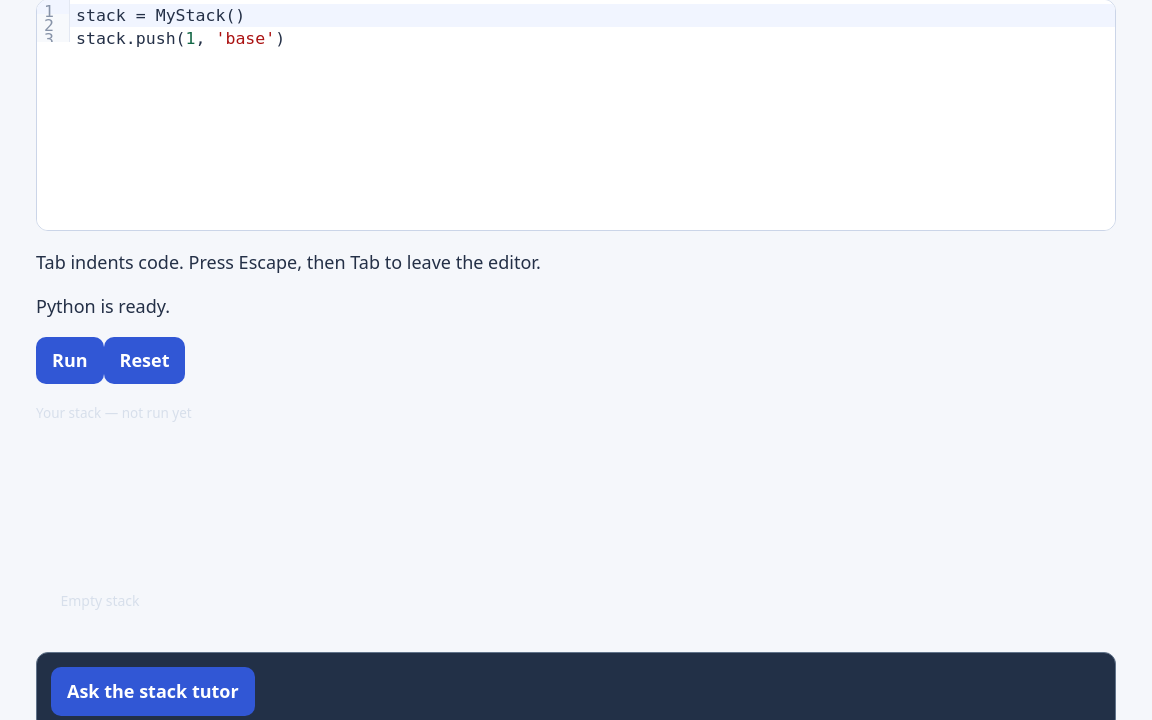
Test: StairwayRepairRoom › shows the thinking pose and error message on a Python error
(page scrolled)
Click the button "Run".
click(70, 361)  # box [36, 338, 104, 384]
(page scrolled)
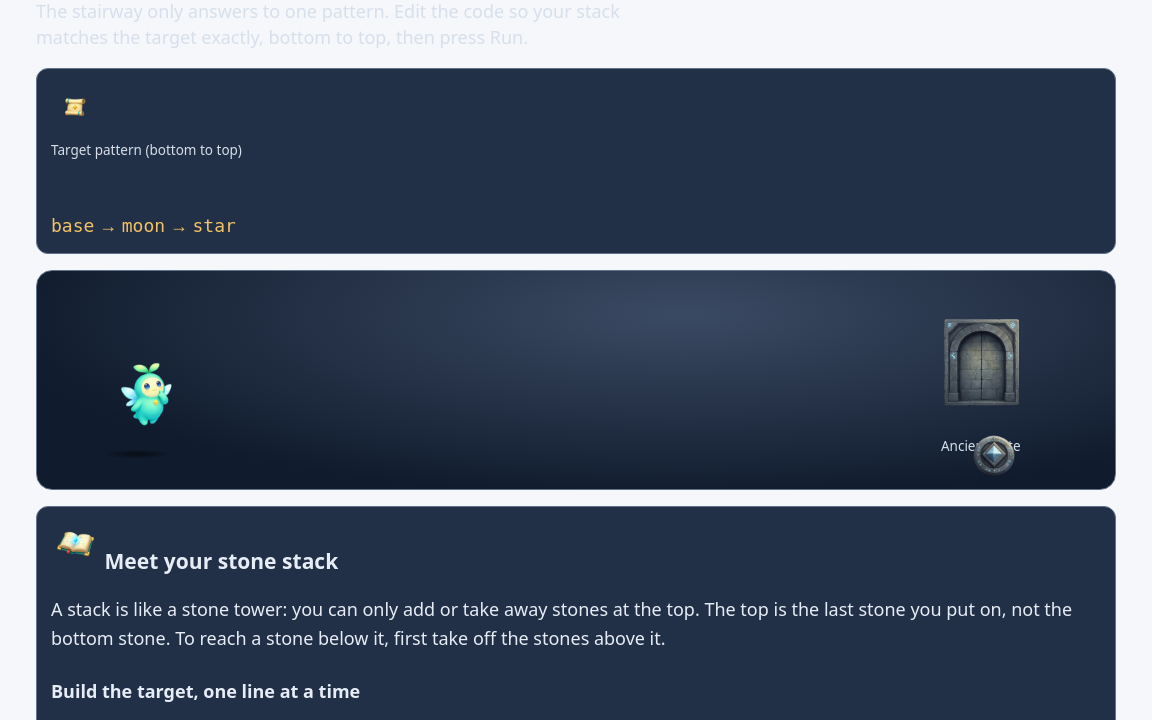
Expected: the picture with alt text "The guide sprite, thinking" is shown, [102, 347, 198, 443]
Expected: the picture with alt text "A closed stone ruins door" is shown, [933, 297, 1029, 425]
